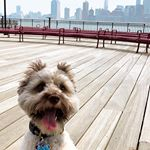puppy: (12, 54, 80, 150)
